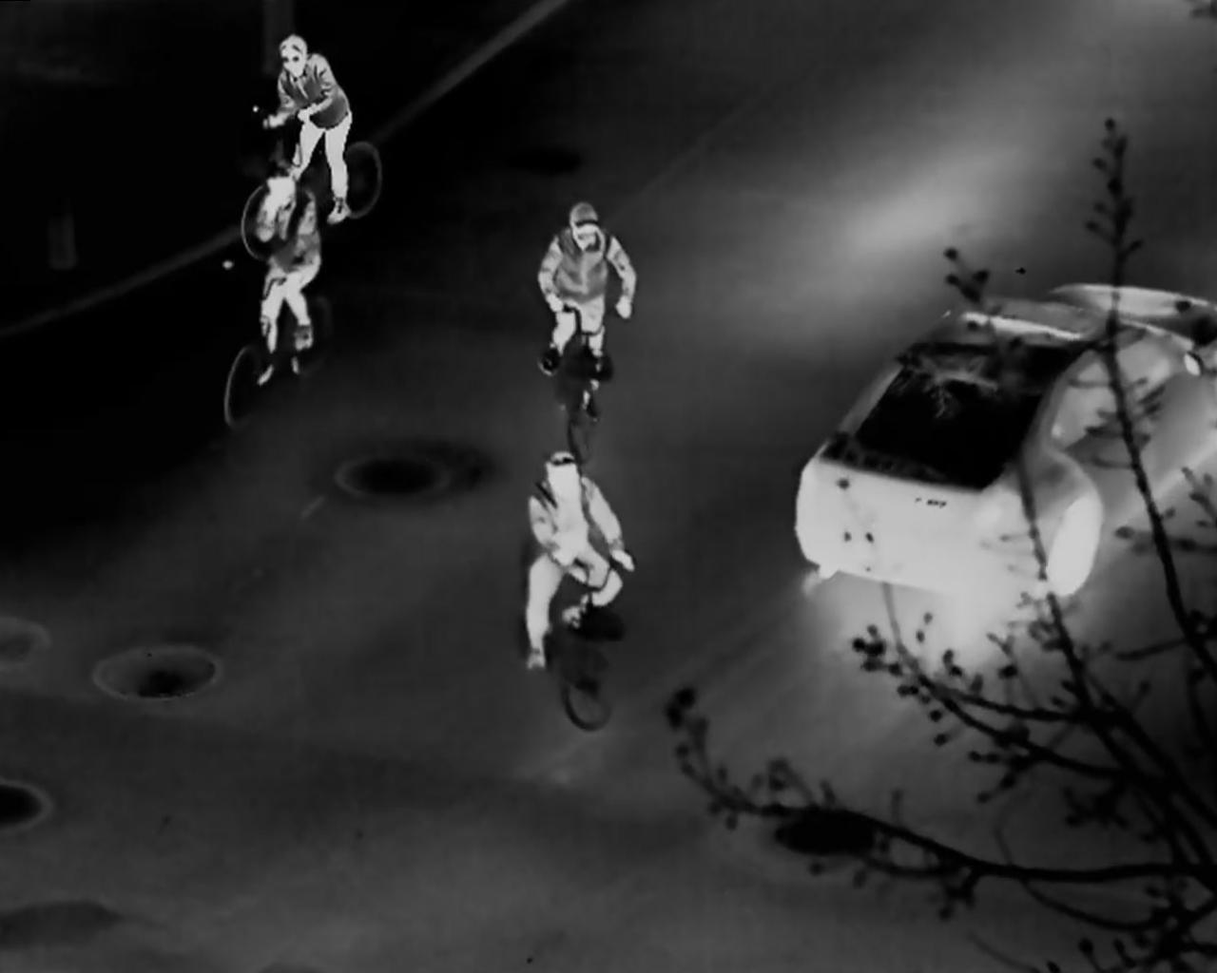person: (526, 193, 632, 398), (525, 457, 629, 664), (270, 35, 350, 225), (252, 179, 313, 378)
